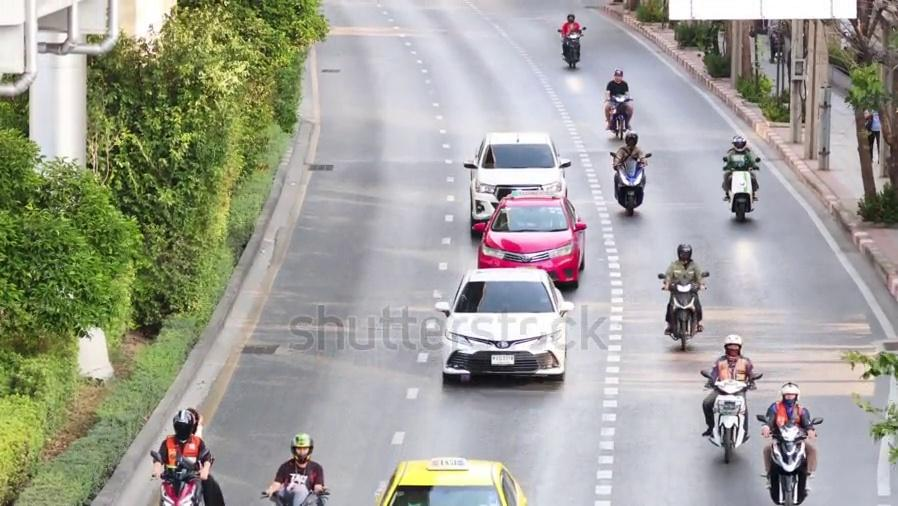person: (862, 108, 881, 163)
rider: (149, 407, 227, 505), (759, 382, 817, 492), (700, 333, 756, 441), (266, 432, 326, 505), (660, 242, 705, 334), (721, 134, 760, 201), (611, 130, 646, 181), (604, 69, 633, 130), (559, 14, 581, 57)
with_helmate: (165, 411, 196, 439), (286, 435, 315, 463), (719, 334, 744, 356), (776, 382, 799, 405), (677, 243, 696, 263), (726, 134, 748, 151), (619, 134, 639, 150)
